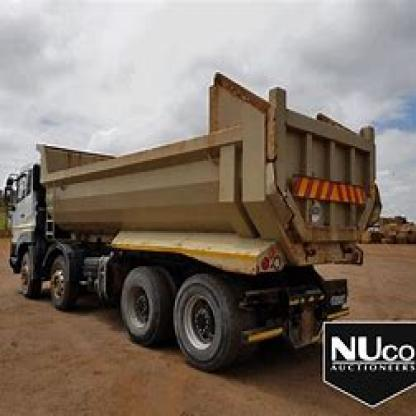dump_truck: (7, 69, 414, 374)
